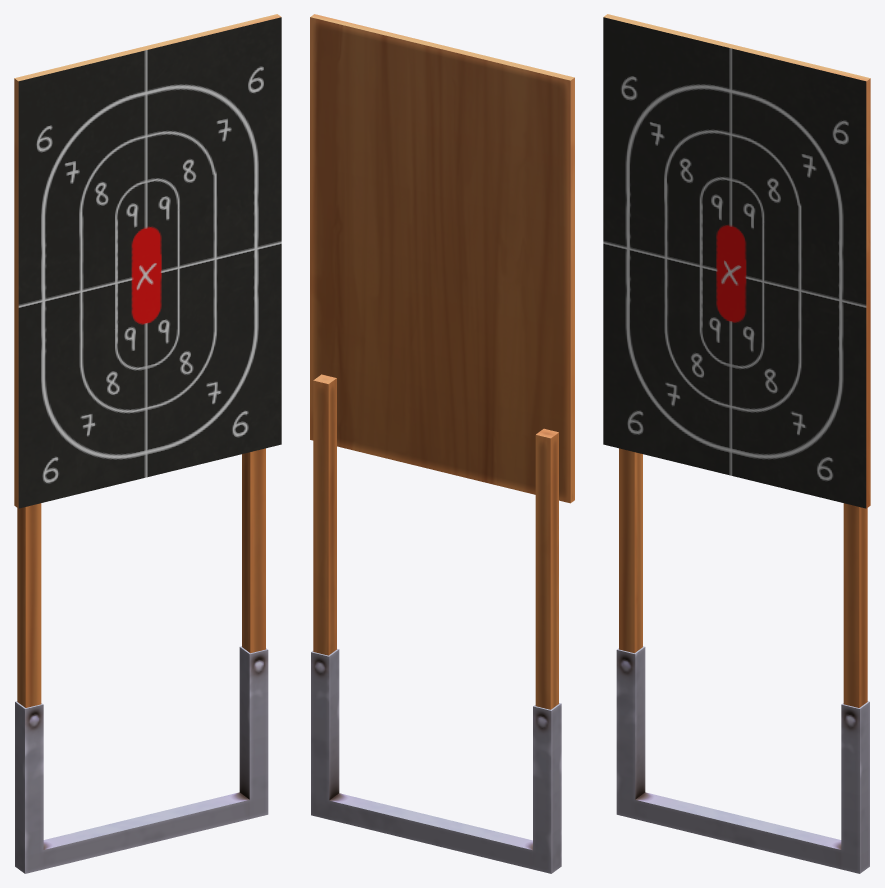
The model's file is Target01_6.FBX.
The picture shows the model from 3 angles, left to right: view 1: azimuth 30°, elevation 25°; view 2: azimuth 150°, elevation 25°; view 3: azimuth 330°, elevation 25°; orthographic projection.
Parts seen in each view (by area): view 1: Target01_6; view 2: Target01_6; view 3: Target01_6.
Boxes of the visible parts, x1=… form: Target01_6: x1=14, y1=14, x2=281, y2=873; Target01_6: x1=310, y1=14, x2=574, y2=873; Target01_6: x1=603, y1=14, x2=870, y2=873.
Size of what is drawn, in the model's own units: 0.6136 by 1.78 by 0.055.
